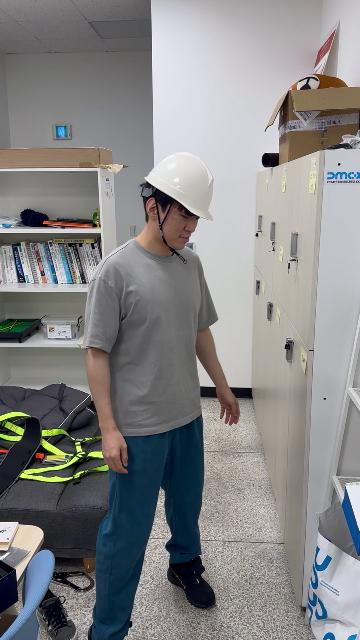helmet_worn: (145, 153, 215, 219)
shoe_not_worn: (35, 591, 77, 640)
shoe_worn: (167, 557, 216, 609), (84, 611, 134, 639), (88, 623, 127, 640)
vest_not_worn: (99, 243, 209, 439)
